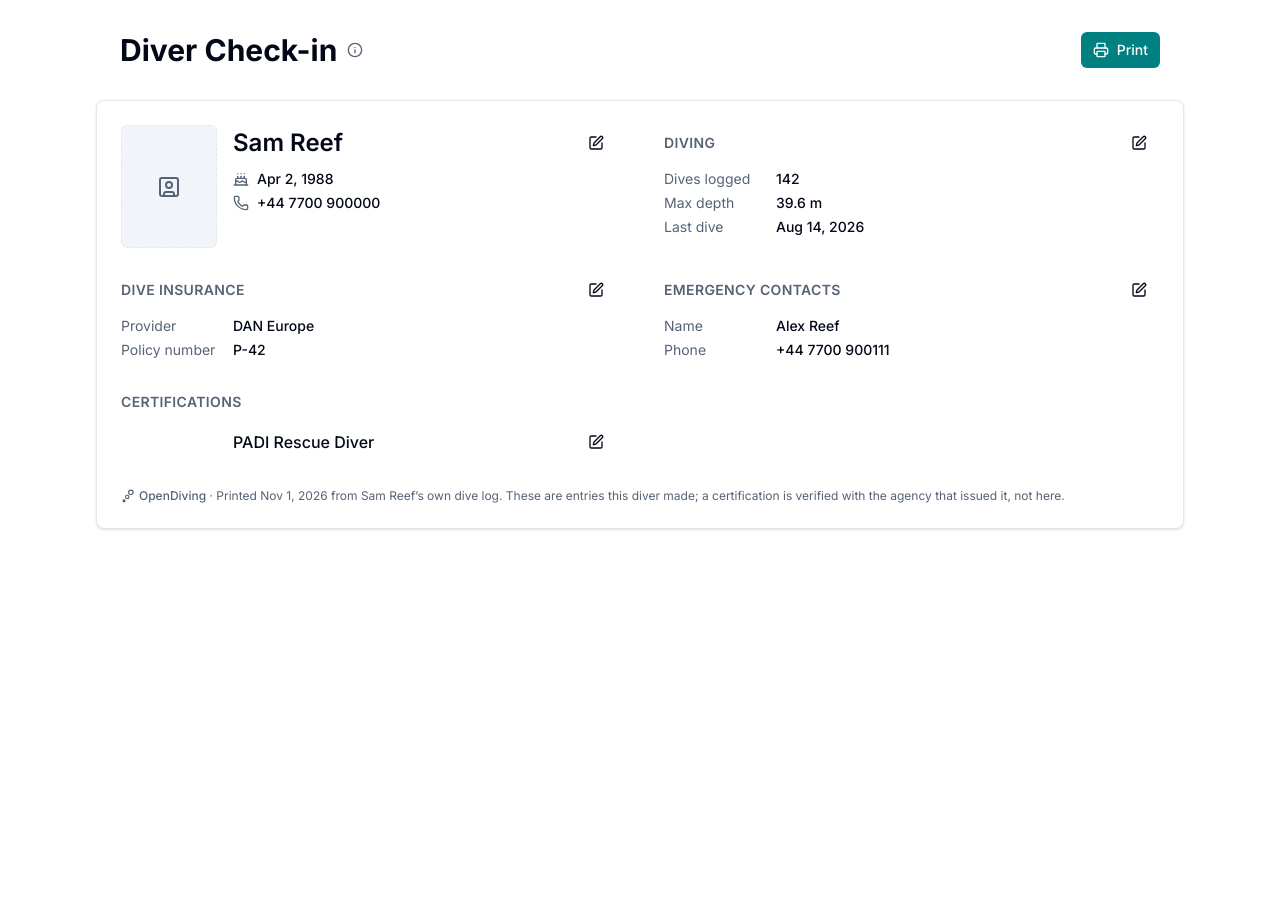
Test case: correcting the diving figures › hands the log's own figures back
Click the button named "Correct these figures" at (1139, 143), box x1=1119 y1=125 x2=1159 y2=161
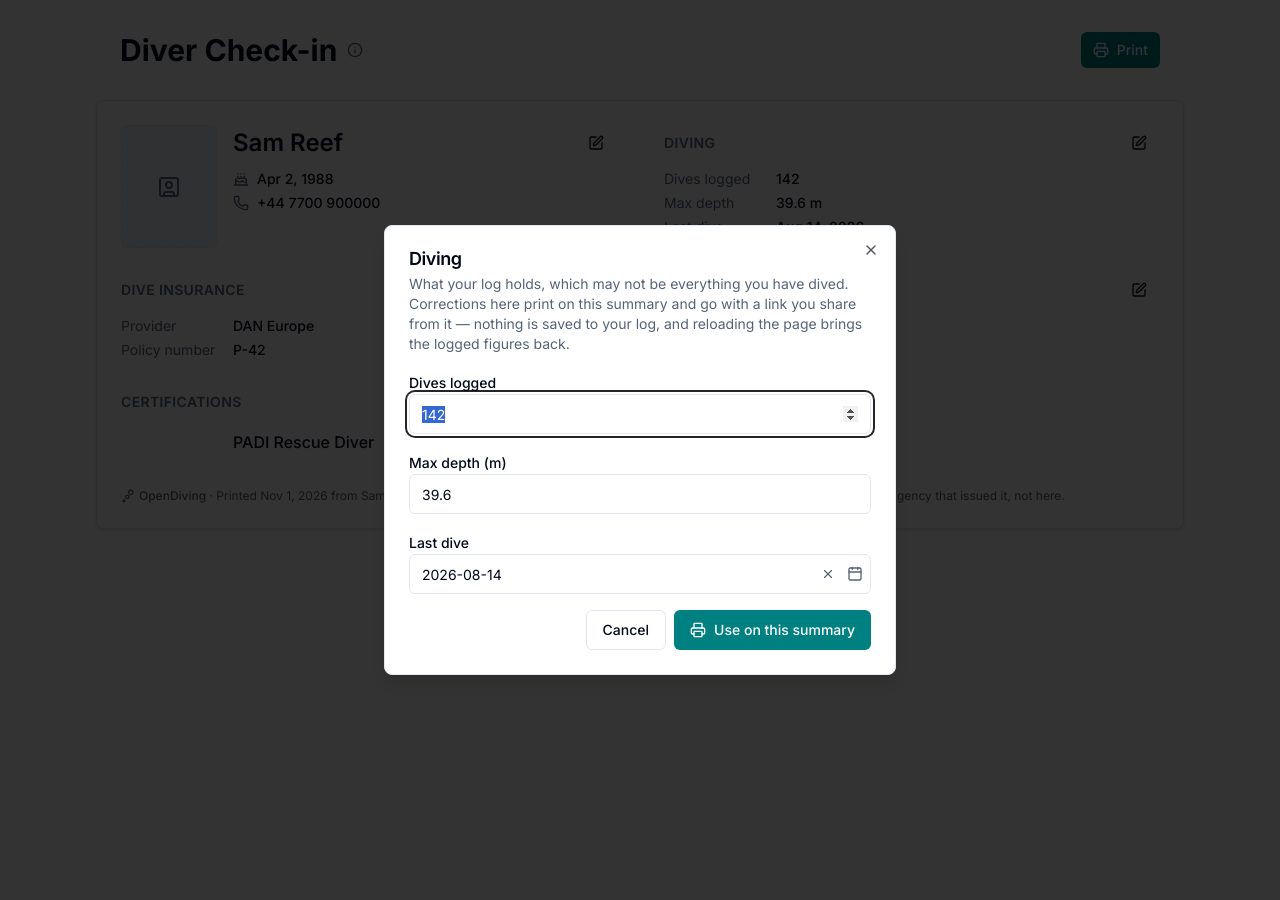
Replace the text in the number field labelled "Dives logged" with "310" at (640, 414), box x1=409 y1=394 x2=871 y2=434
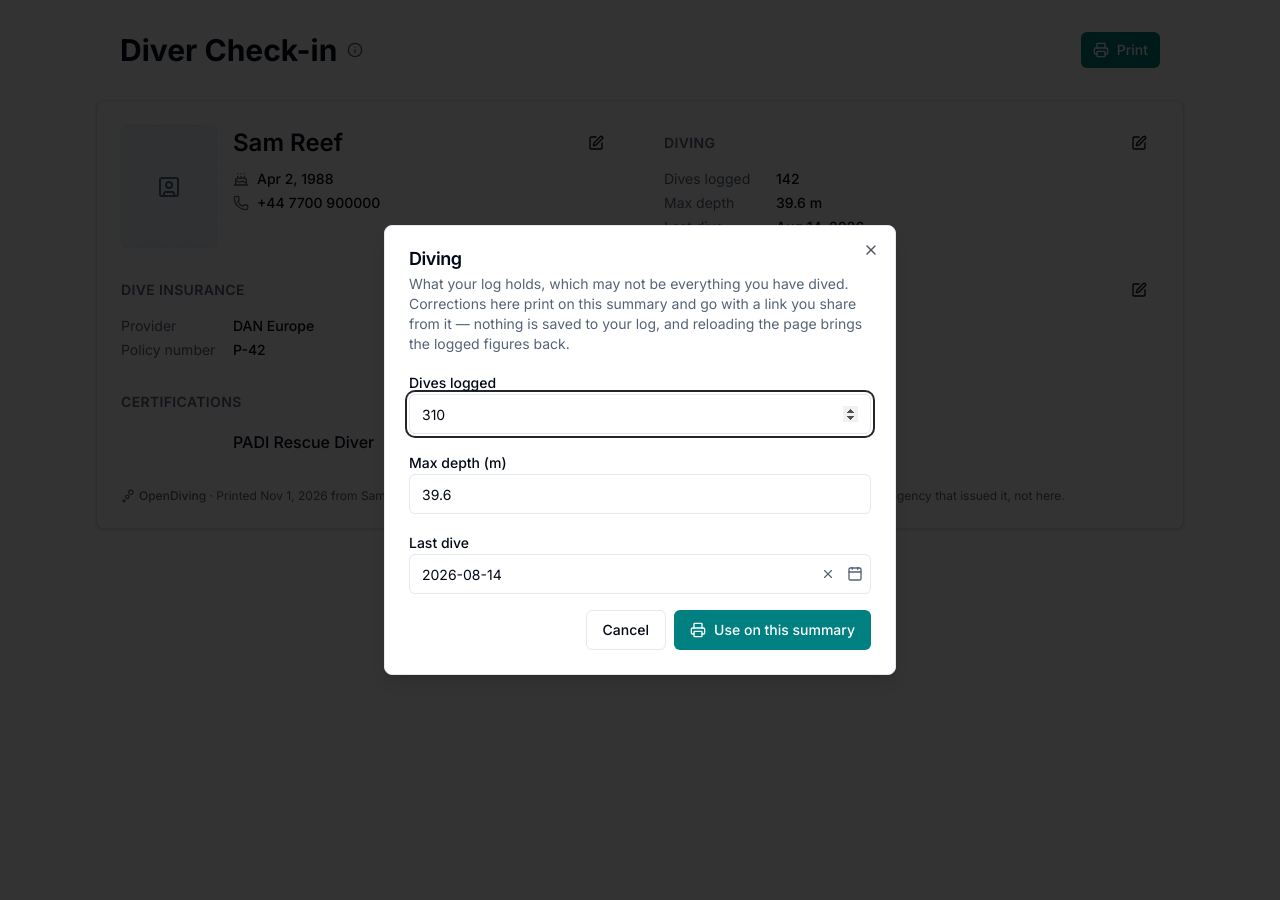
Click the button "Use on this summary" at (773, 630), box x1=674 y1=610 x2=871 y2=650
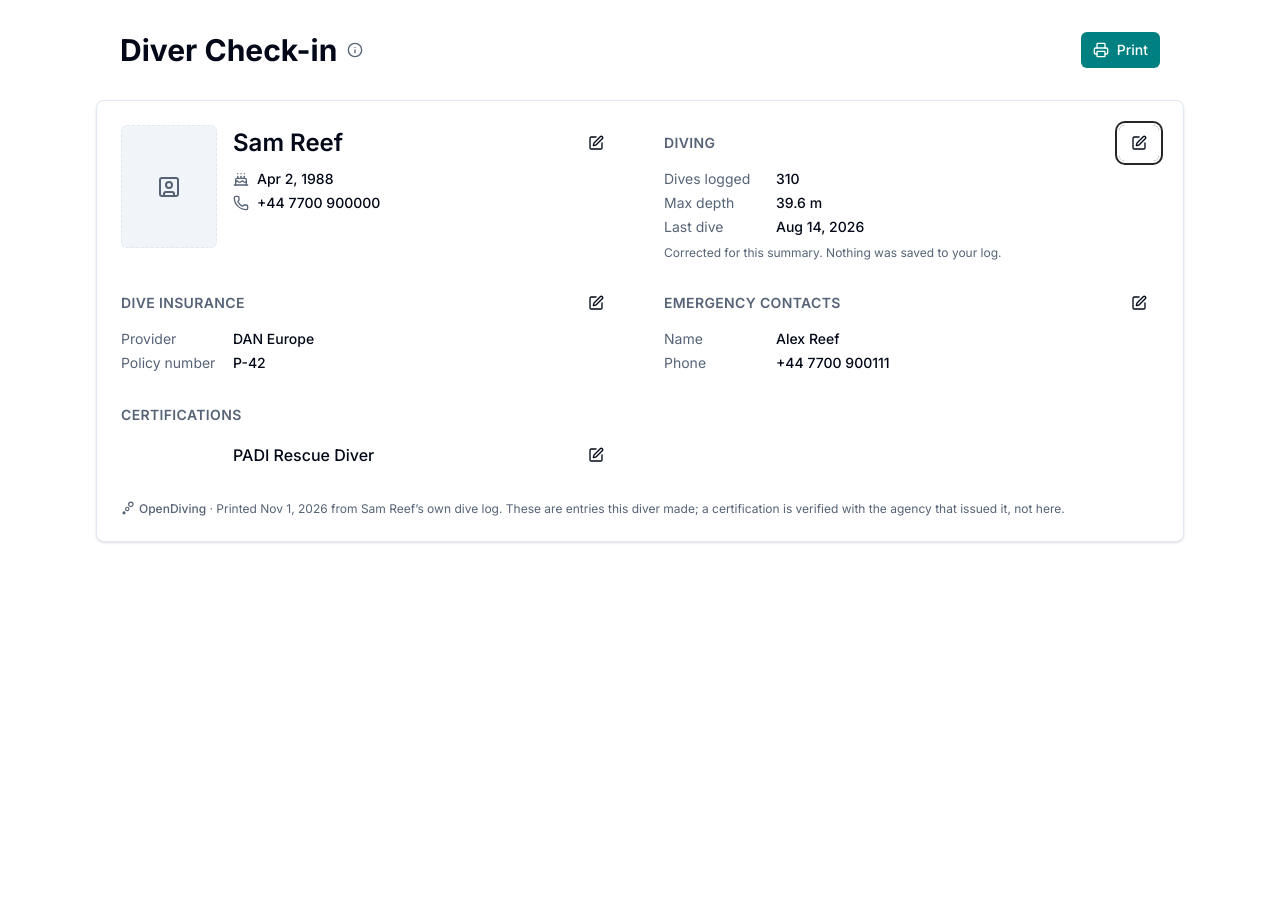
Click the button named "Correct these figures" at (1139, 143), box x1=1119 y1=125 x2=1159 y2=161
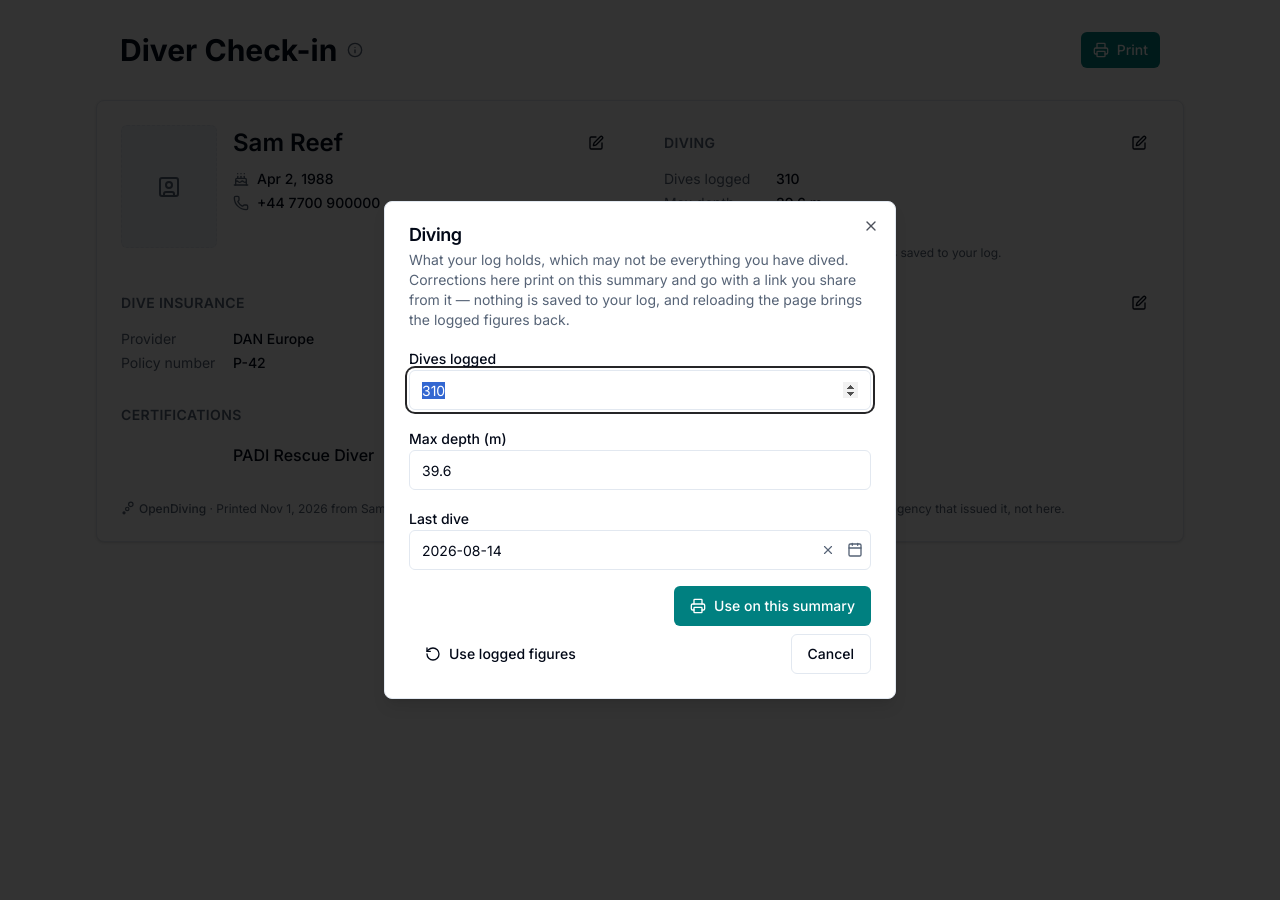
Click the button "Use logged figures" at (500, 654), box x1=409 y1=634 x2=592 y2=674
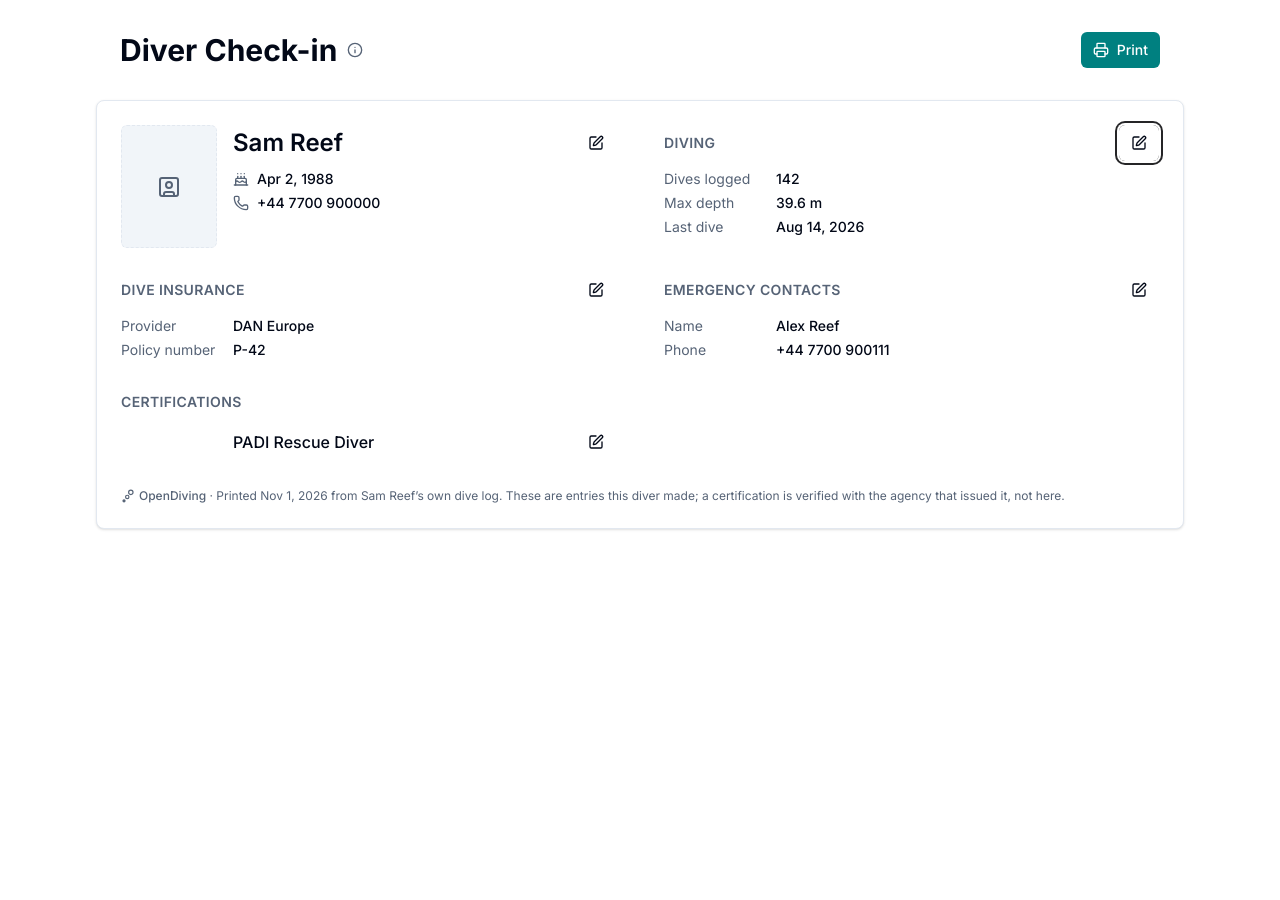
Expected: the text "142" is shown, x1=776 y1=170 x2=800 y2=187
Expected: the text "Nothing was saved to your log" is gone
